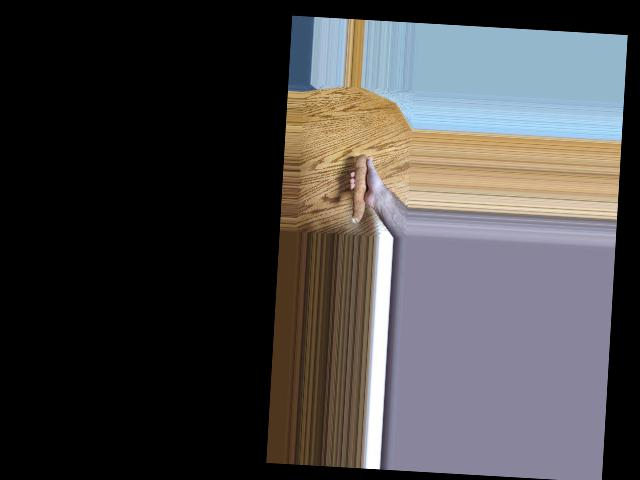sweet_potato: (350, 153, 375, 225)
